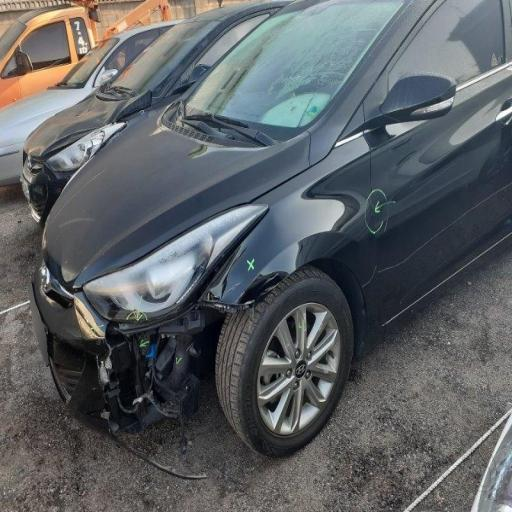broken: (90, 246, 260, 442)
dent: (144, 114, 265, 240)
scratch: (335, 168, 410, 252)
